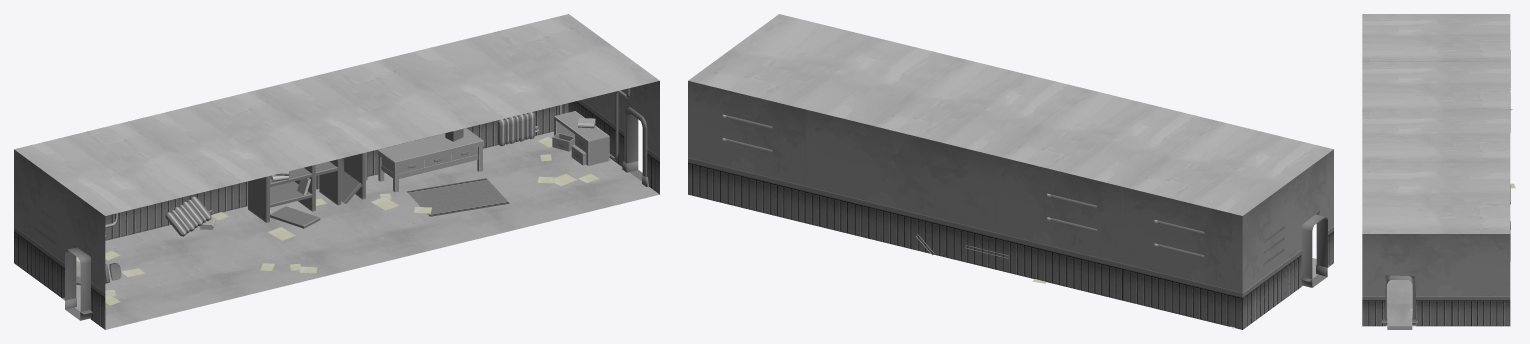
File: MSH_QuestStandard_L4_R3_optimized.fbx
3 views of the same model, side by side, from view 1: azimuth 30°, elevation 25°; view 2: azimuth 150°, elevation 25°; view 3: azimuth 270°, elevation 25° (orthographic). The views are drawn at different scales.
Visible parts, largest first — view 1: lightmap0, lightmap5, lightmap3, lightmap1, lightmap-1; view 2: lightmap0, lightmap1, lightmap5; view 3: lightmap0, lightmap1, lightmap5.
Boxes of the visible parts, x1,y1,x2,y2 form: lightmap0: (14,14,659,320); lightmap5: (14,100,659,329); lightmap3: (105,88,630,236); lightmap1: (14,81,659,292); lightmap-1: (76,137,599,305); lightmap0: (688,14,1333,287); lightmap1: (688,81,1333,292); lightmap5: (688,157,1333,329); lightmap0: (1362,14,1510,329); lightmap1: (1362,50,1510,295); lightmap5: (1362,280,1510,326).
Bounding box in the file's own units: 30.91 × 5.93 × 8.83.
